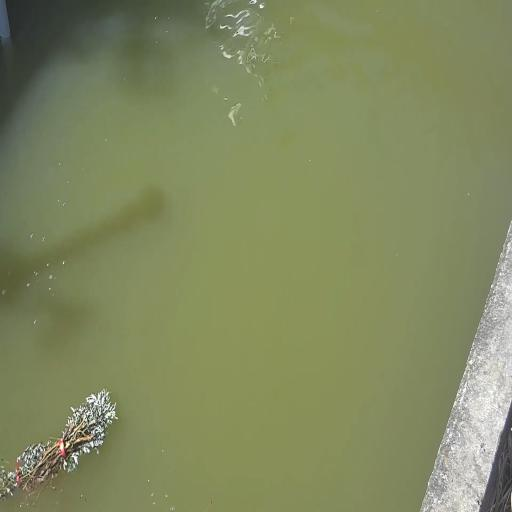twig: (0, 388, 117, 499)
